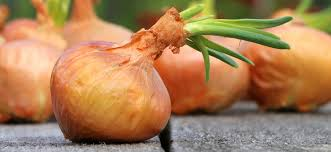Onion: (42, 19, 188, 149)
